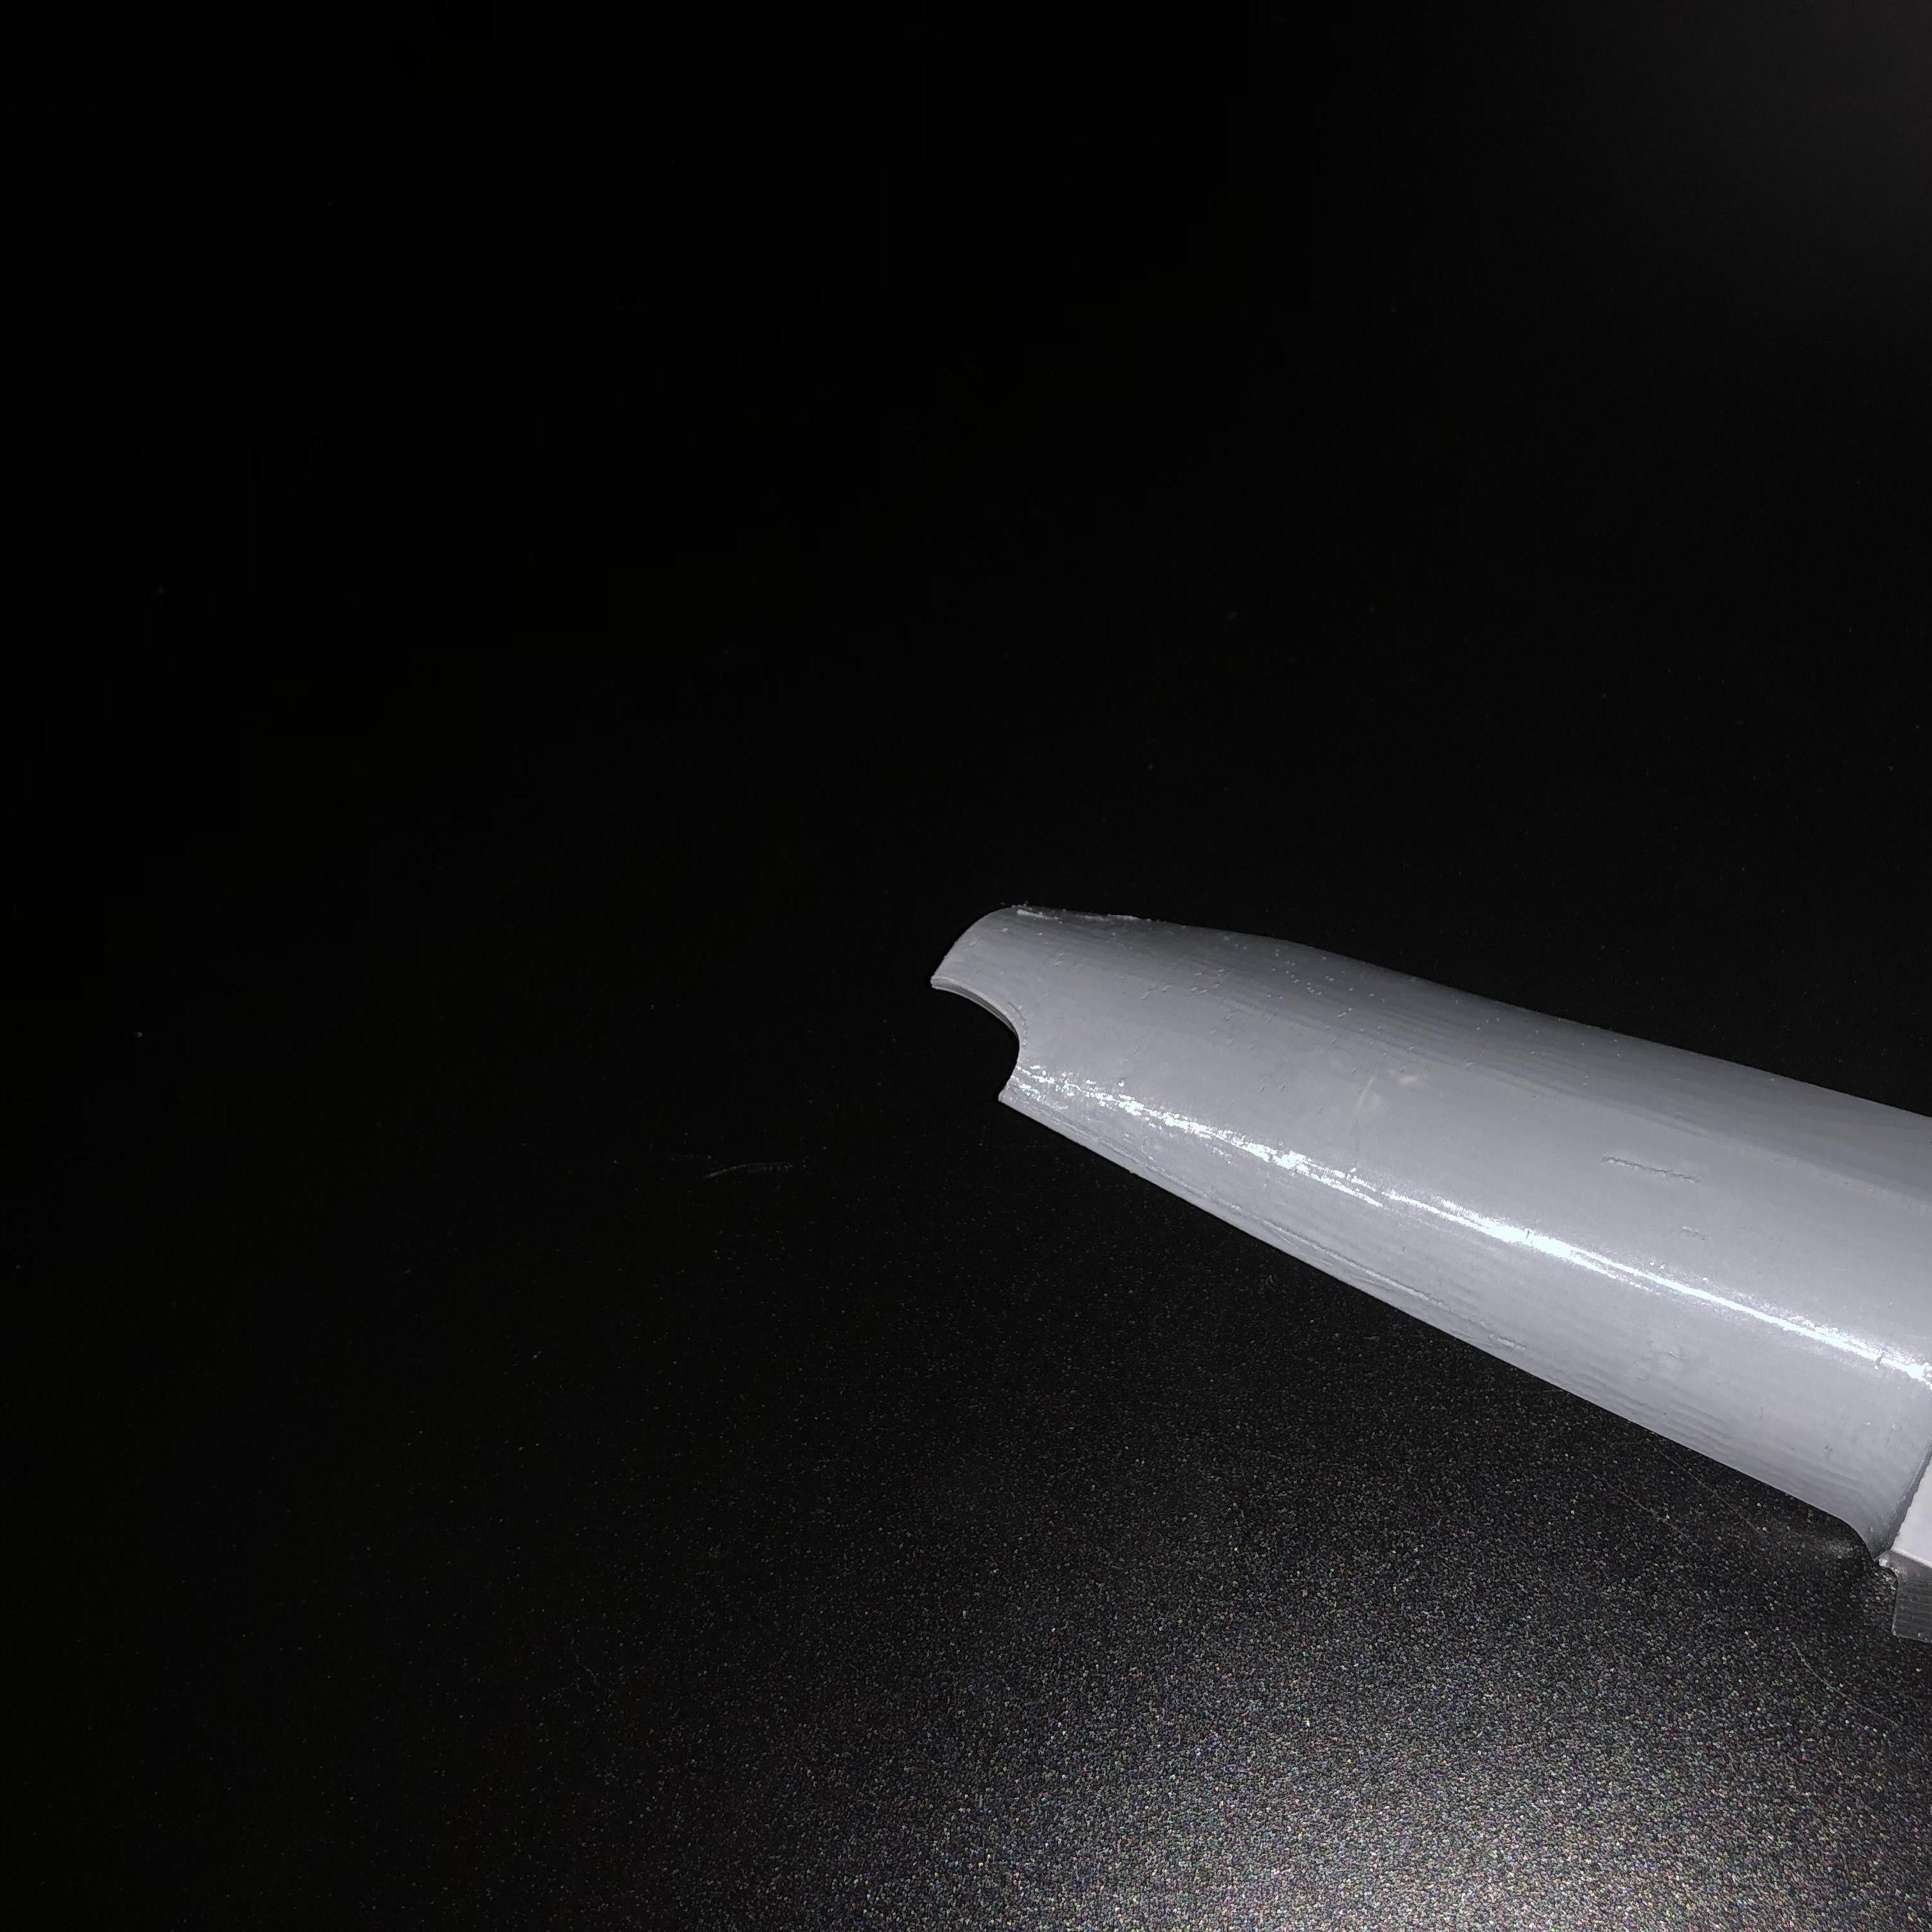fracture: (922, 970, 1037, 1097)
